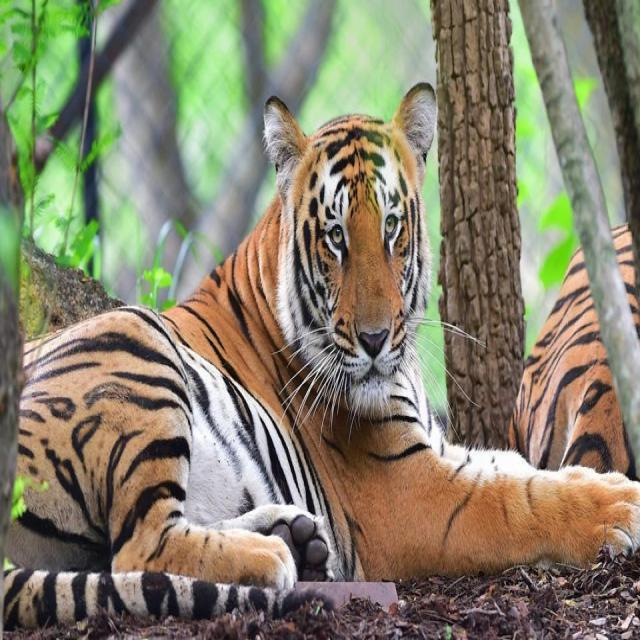Tiger: (9, 58, 626, 614)
